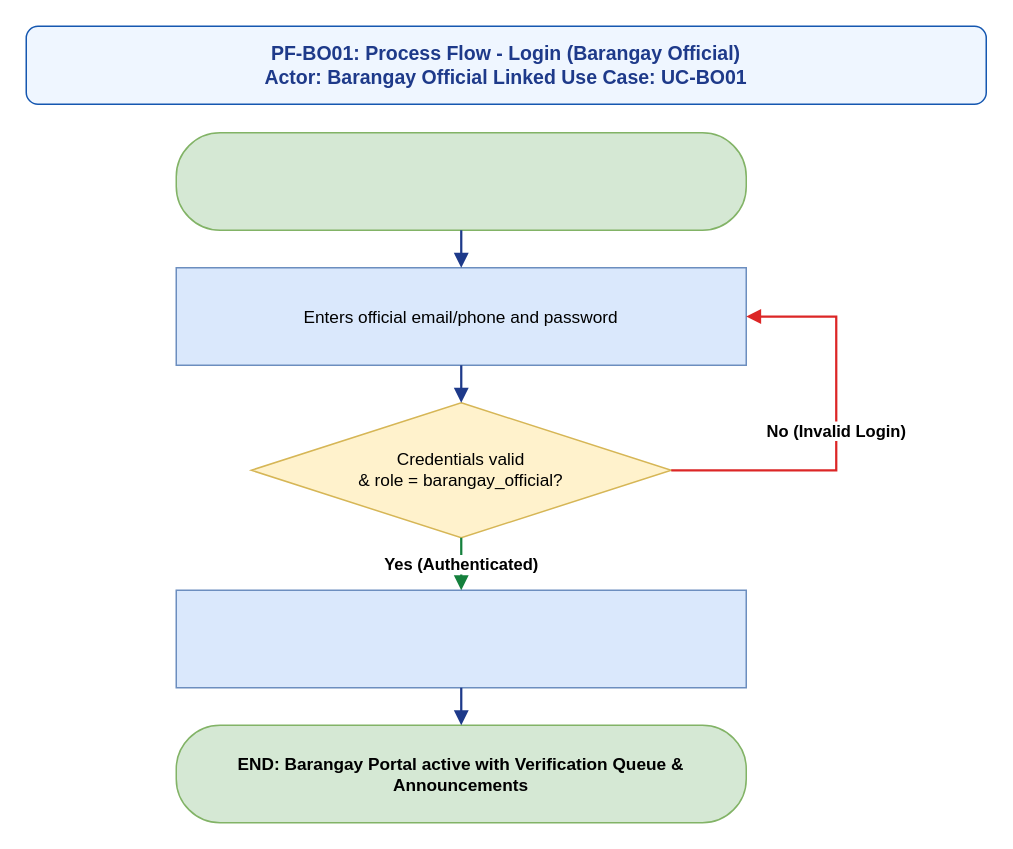
The diagram is 1013 pixels wide and 849 high, and some of its shapes have lost their labels. The centre of each missing label's shape, as x and y in pixels:
START: Barangay Official opens Web Admin Login page: point 460,180
System loads Barangay-specific operational dashboard (scoped to own barangay): point 460,638
